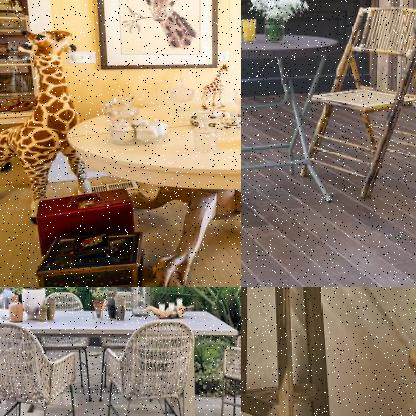table: (61, 99, 240, 286), (0, 304, 240, 415), (241, 27, 344, 219), (241, 287, 365, 415)
